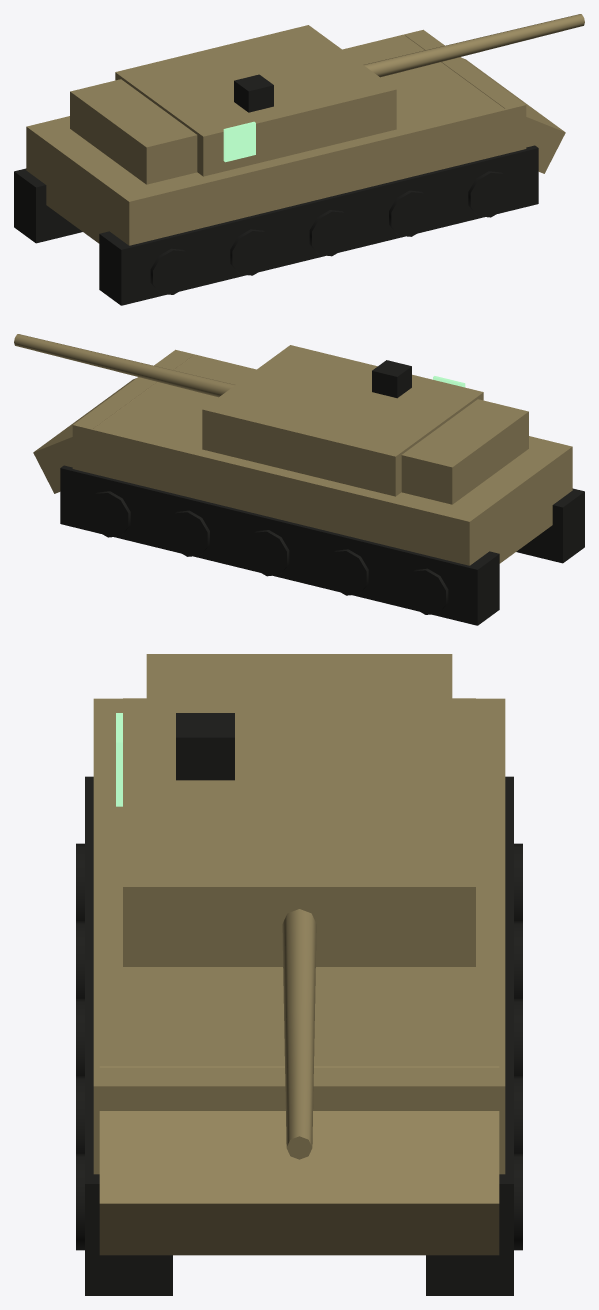
3 renders of one model, top to bottom at view 1: azimuth 30°, elevation 25°; view 2: azimuth 150°, elevation 25°; view 3: azimuth 270°, elevation 25°, orthographic. The views are drawn at different scales.
Visible parts, largest first — view 1: Hull, TurretBody, Track2, Bustle, Barrel, Track, Glacis, Wheel6, Wheel8, Wheel10, Wheel7, Wheel9 (+2 smaller); view 2: Hull, TurretBody, Track, Bustle, Barrel, Track2, Glacis, Wheel, Wheel3, Wheel5, Wheel2, Wheel4 (+1 smaller); view 3: TurretBody, Hull, Glacis, Bustle, Track, Track2, Barrel, Sight, Wheel5, Wheel10.
Boxes of the visible parts, x1,y1,x2,y2 form: Hull: (26, 29, 526, 245); TurretBody: (115, 25, 396, 176); Track2: (99, 145, 538, 305); Bustle: (70, 79, 197, 184); Barrel: (364, 14, 584, 77); Track: (14, 168, 82, 243); Glacis: (405, 35, 565, 173); Wheel6: (150, 248, 193, 294); Wheel8: (309, 210, 352, 256); Wheel10: (468, 171, 511, 217); Wheel7: (230, 229, 272, 275); Wheel9: (389, 190, 431, 236); Hull: (72, 349, 572, 565); TurretBody: (202, 345, 483, 496); Track: (60, 465, 499, 625); Bustle: (401, 399, 528, 504); Barrel: (14, 334, 234, 397); Track2: (516, 488, 584, 563); Glacis: (33, 355, 193, 493); Wheel: (405, 568, 448, 614); Wheel3: (246, 530, 289, 576); Wheel5: (87, 491, 130, 537); Wheel2: (326, 549, 368, 595); Wheel4: (167, 510, 209, 556); TurretBody: (123, 698, 475, 966); Hull: (93, 698, 505, 1174); Glacis: (99, 1066, 499, 1255); Bustle: (146, 654, 452, 698); Track: (426, 776, 513, 1295); Track2: (85, 776, 172, 1295); Barrel: (282, 909, 316, 1159); Sight: (176, 713, 234, 780); Wheel5: (514, 1153, 522, 1250); Wheel10: (76, 1153, 84, 1250).
Bounding box in the file's own units: 10.1 × 3.02 × 3.8.
